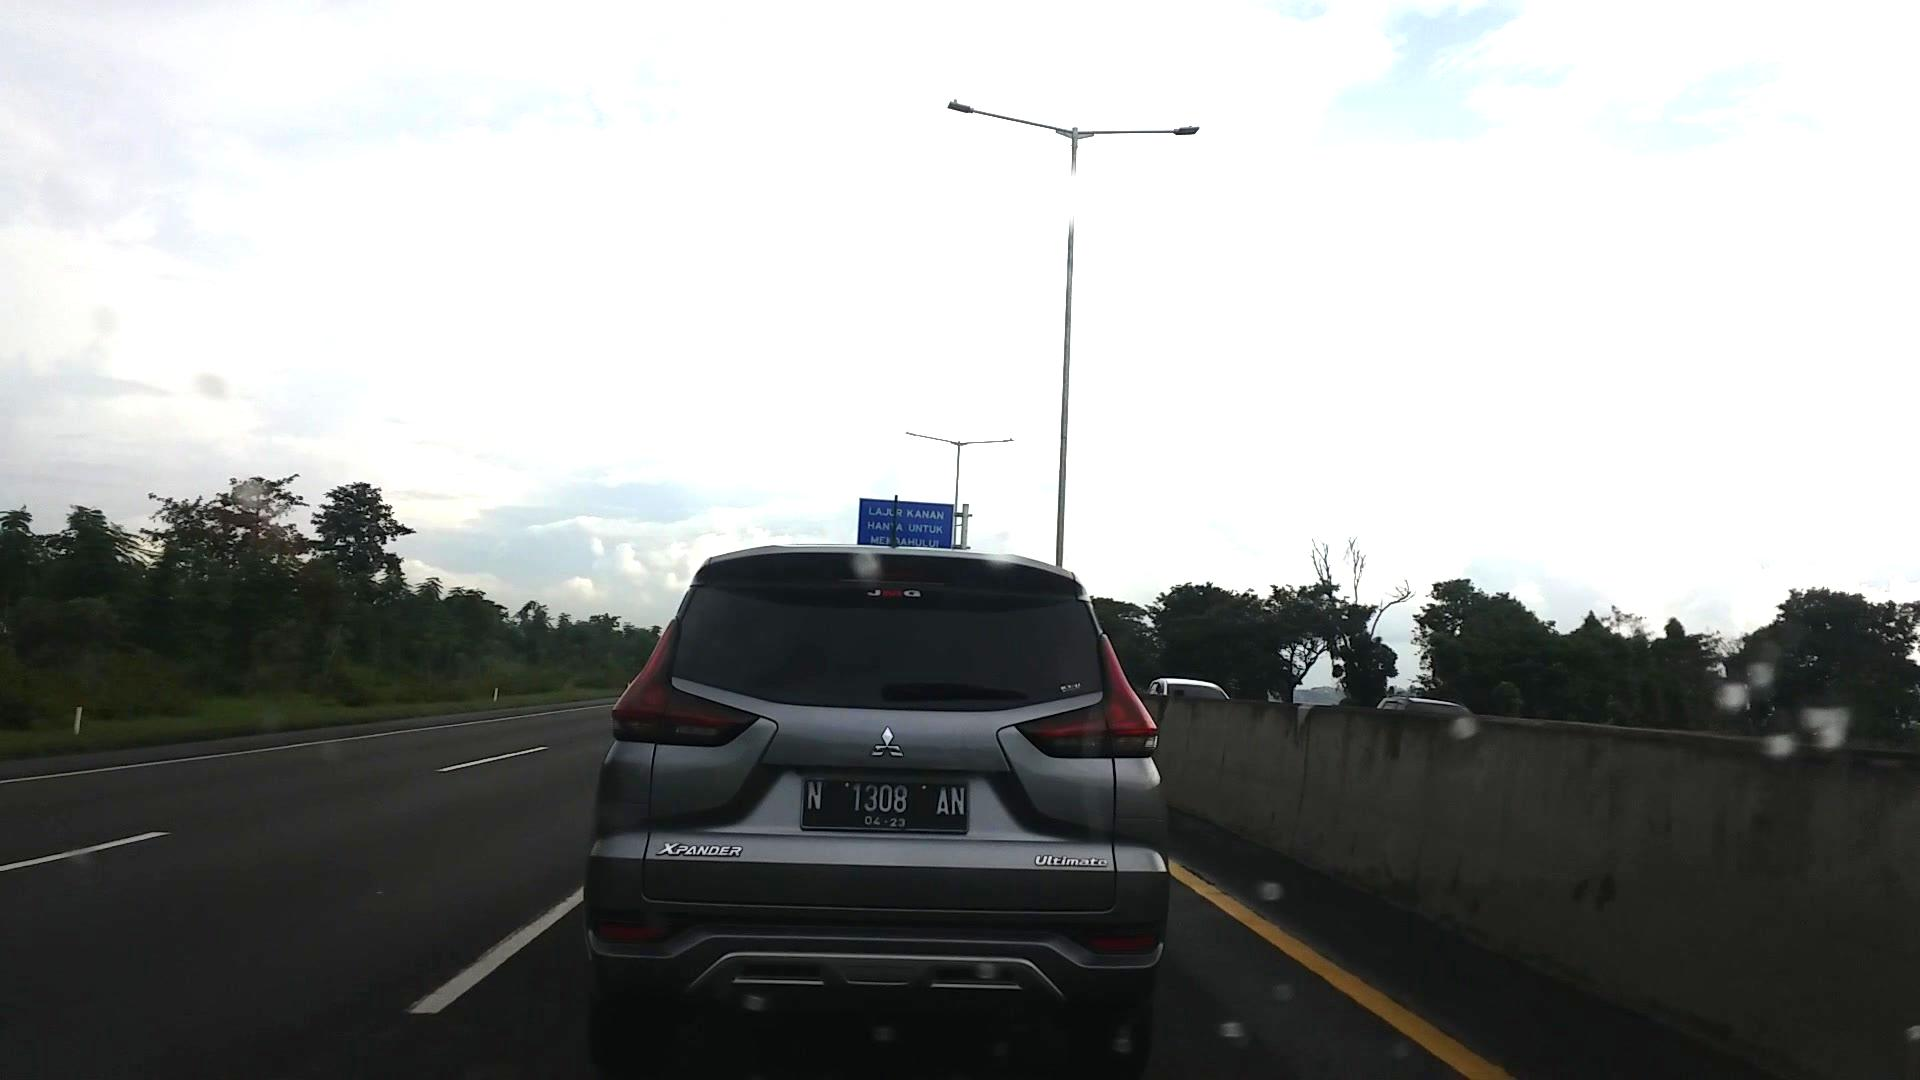plate_positive: (800, 777, 969, 833)
